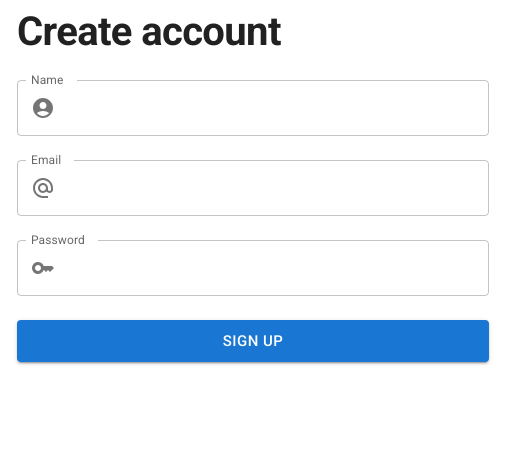
AuthForm › shows a registration error linked to all registration fields
Type "Alex Mercer" into the field labelled "Name" at (276, 108), box [63,80,489,136]
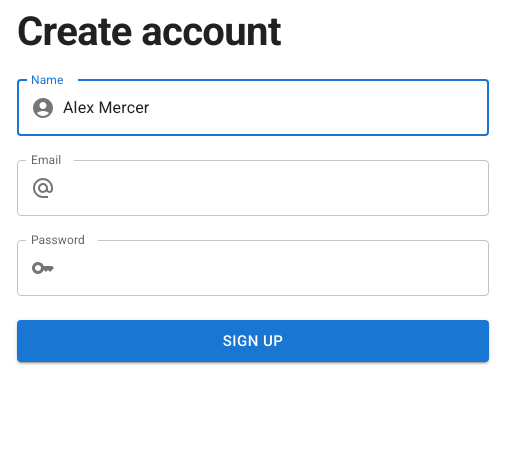
Type "alex@example.com" into the field labelled "Email" at (276, 188), box [63,160,489,216]
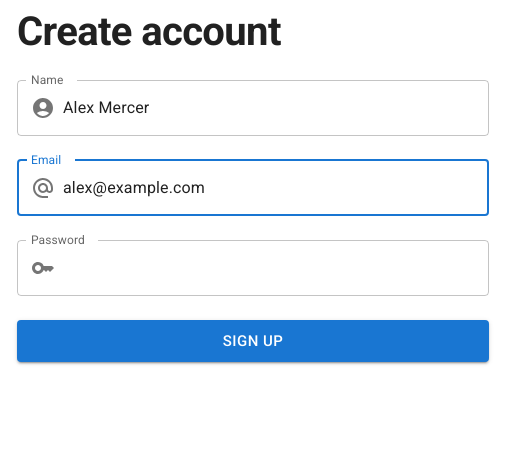
Type "secret123" into the password field labelled "Password" at (276, 268), box [63,240,489,296]
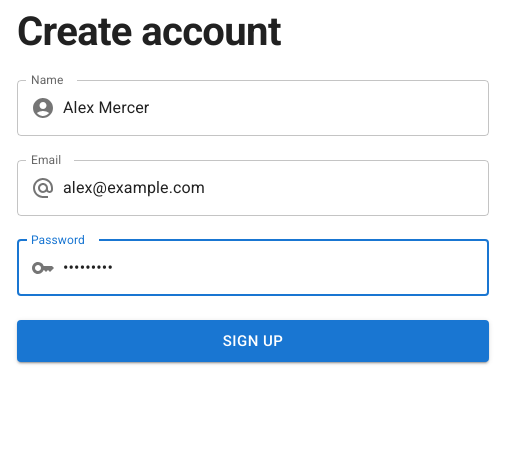
Click the button "Sign up" at (253, 341), box [17,320,489,362]
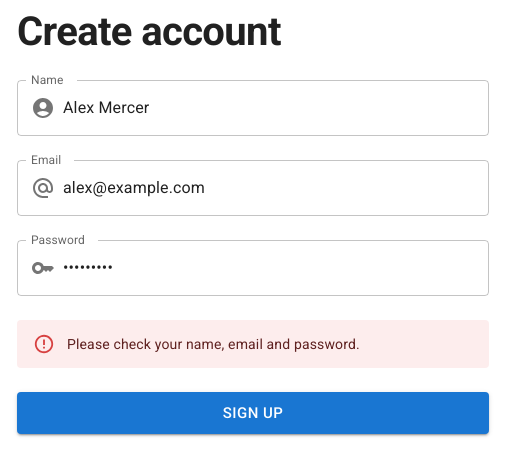
Now the message reads "Please check your name, email and password.", box [67,336,360,352]
